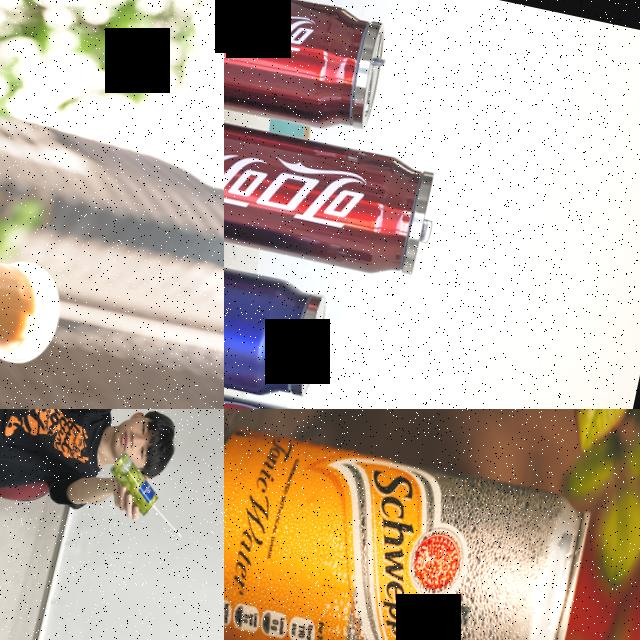can: (224, 414, 593, 640), (224, 99, 437, 282), (224, 0, 394, 143), (224, 239, 332, 405), (100, 448, 166, 518)
cup: (0, 204, 69, 369)
